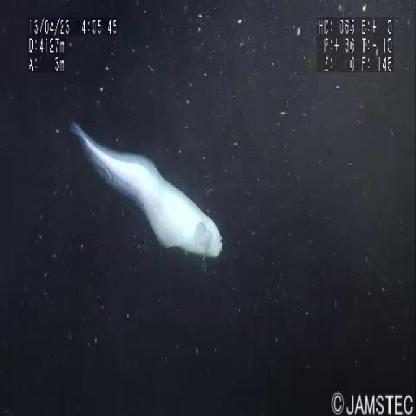Bio: (66, 117, 225, 274)
